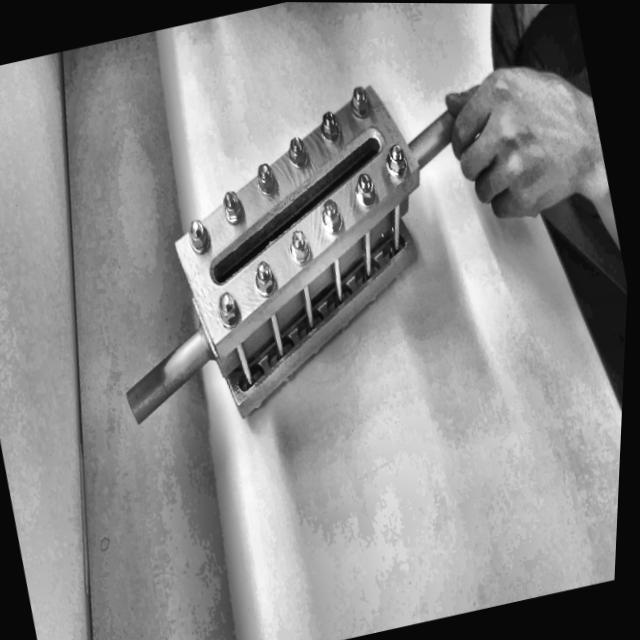ShuiWeiQi_12: (54, 2, 514, 443)
